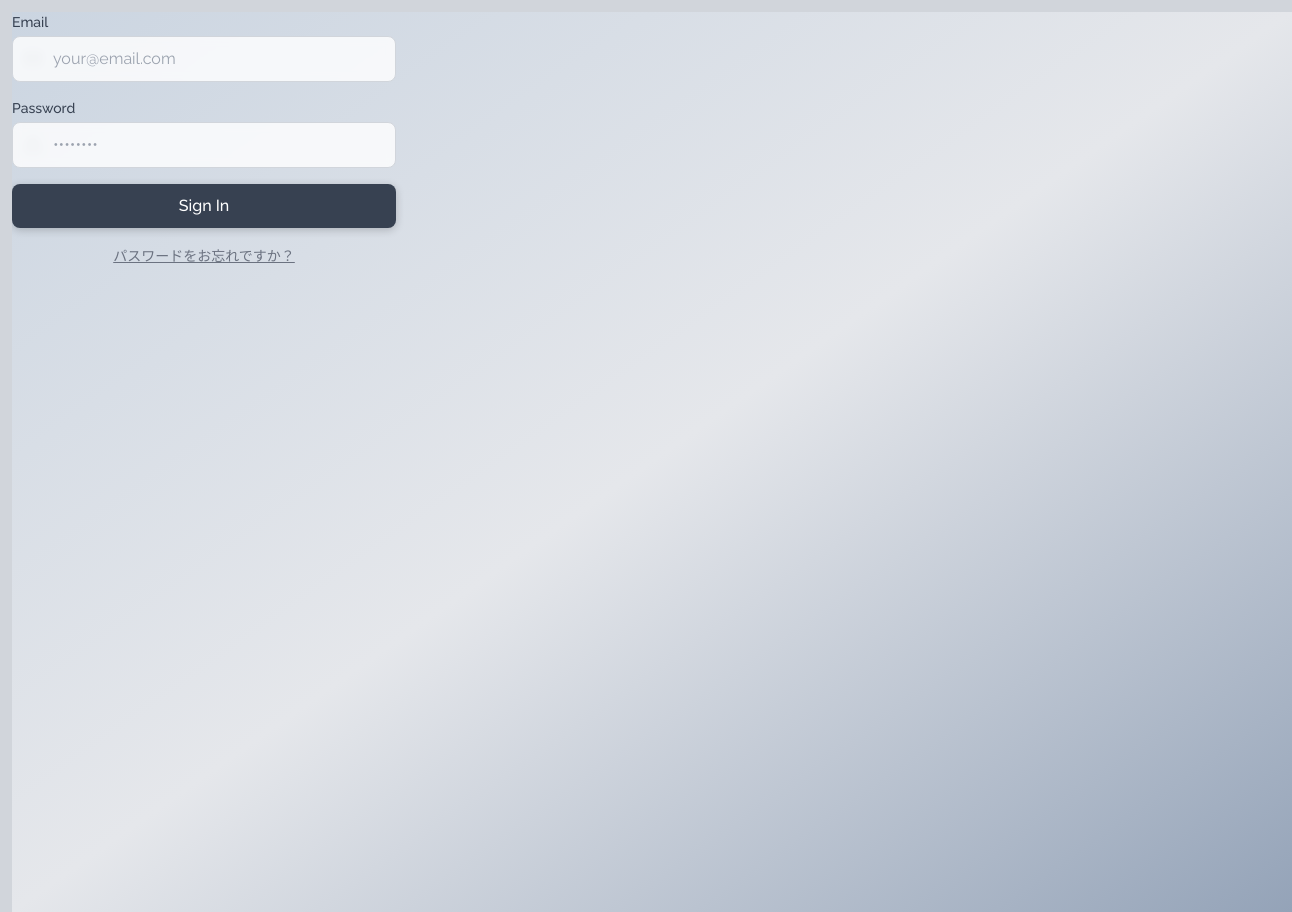
Test: AuthForm › login mode › displays error on failed login
This screenshot has width=1292, height=912.
Step 1. Type "test@example.com" into the field labelled "Email" → (204, 59), box [12,36,396,82]
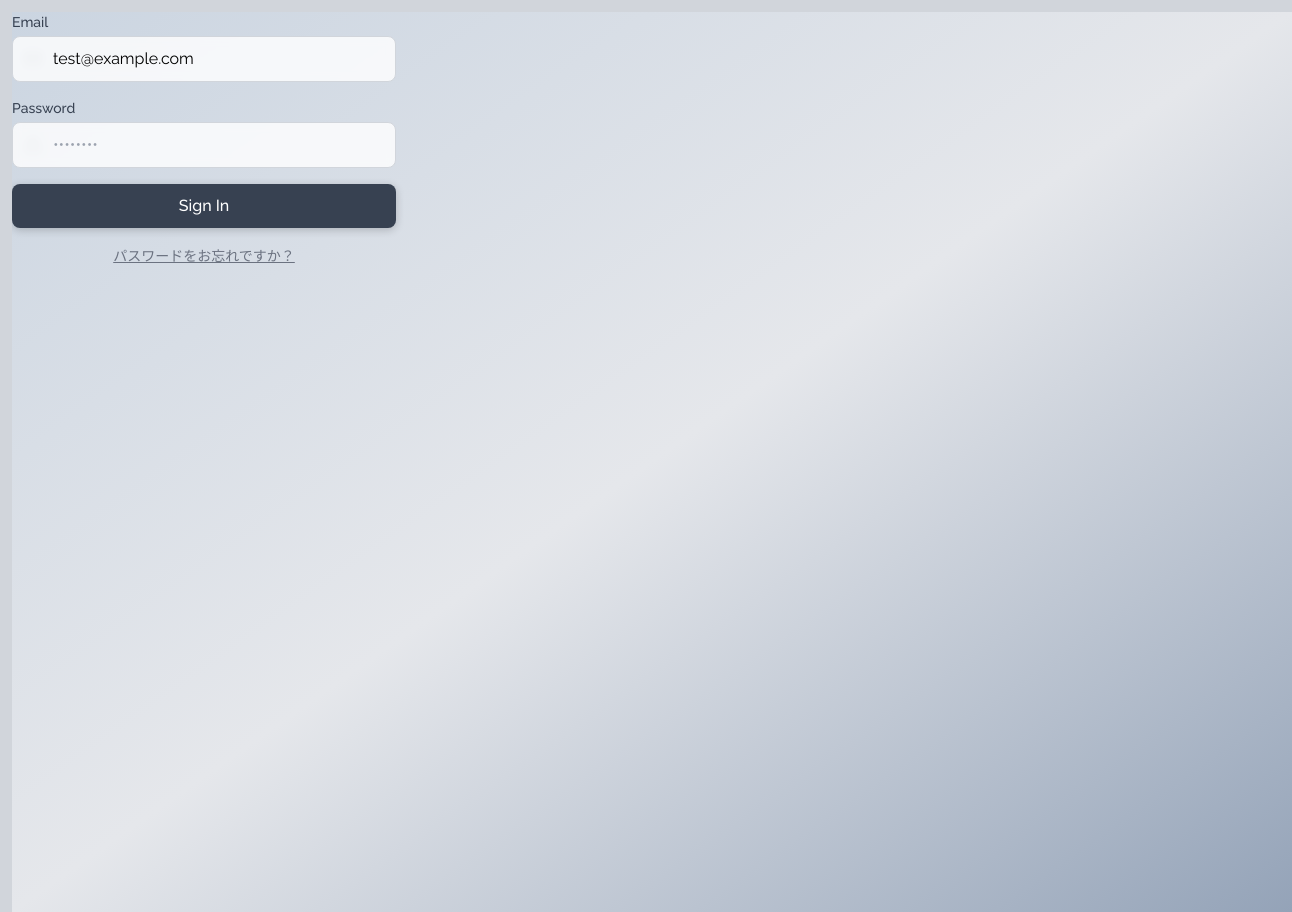
Step 2. Type "wrongpass" into the password field labelled "Password" → (204, 145), box [12,122,396,168]
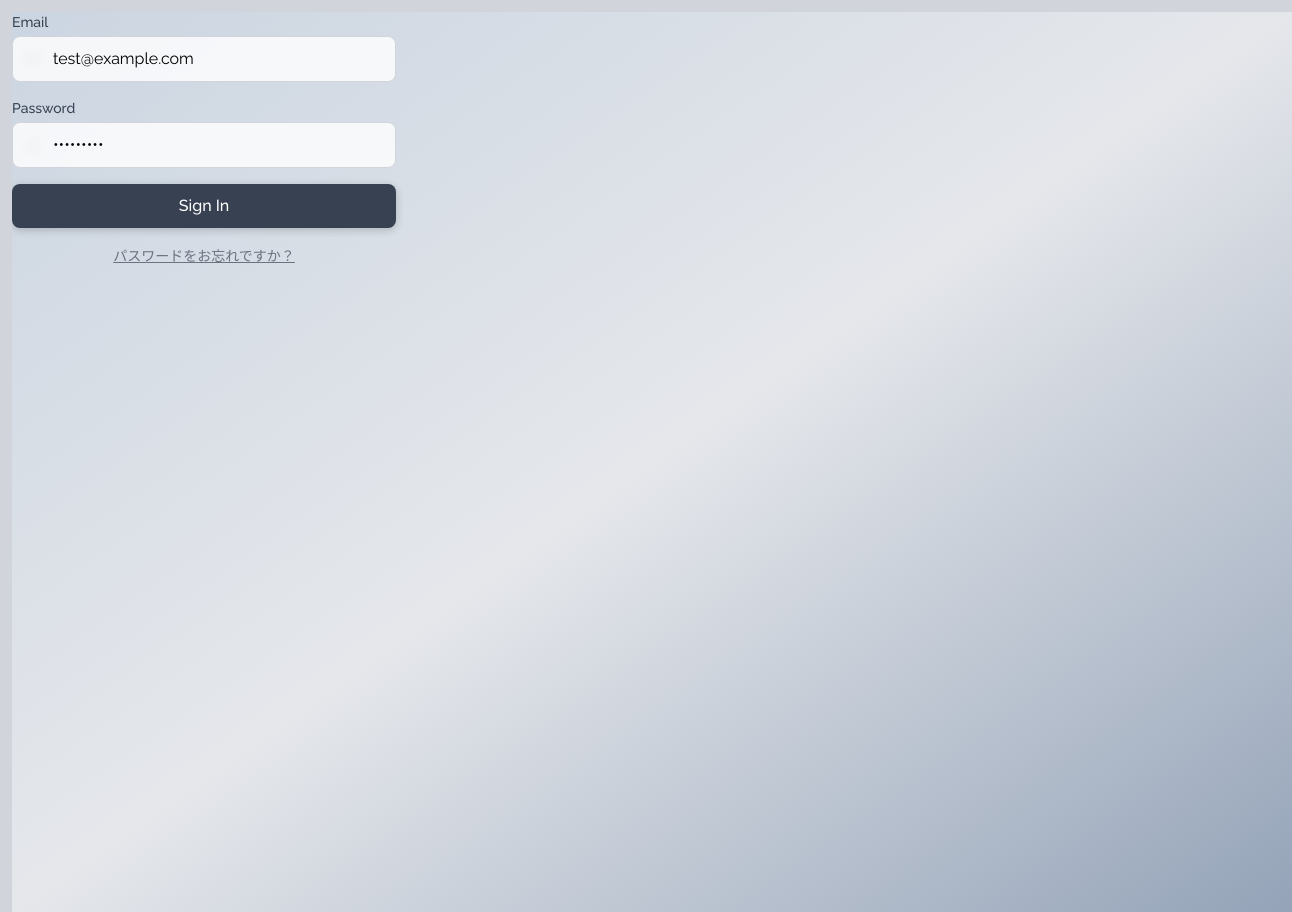
Step 3. Click the button "Sign In" → (204, 206), box [12,184,396,228]
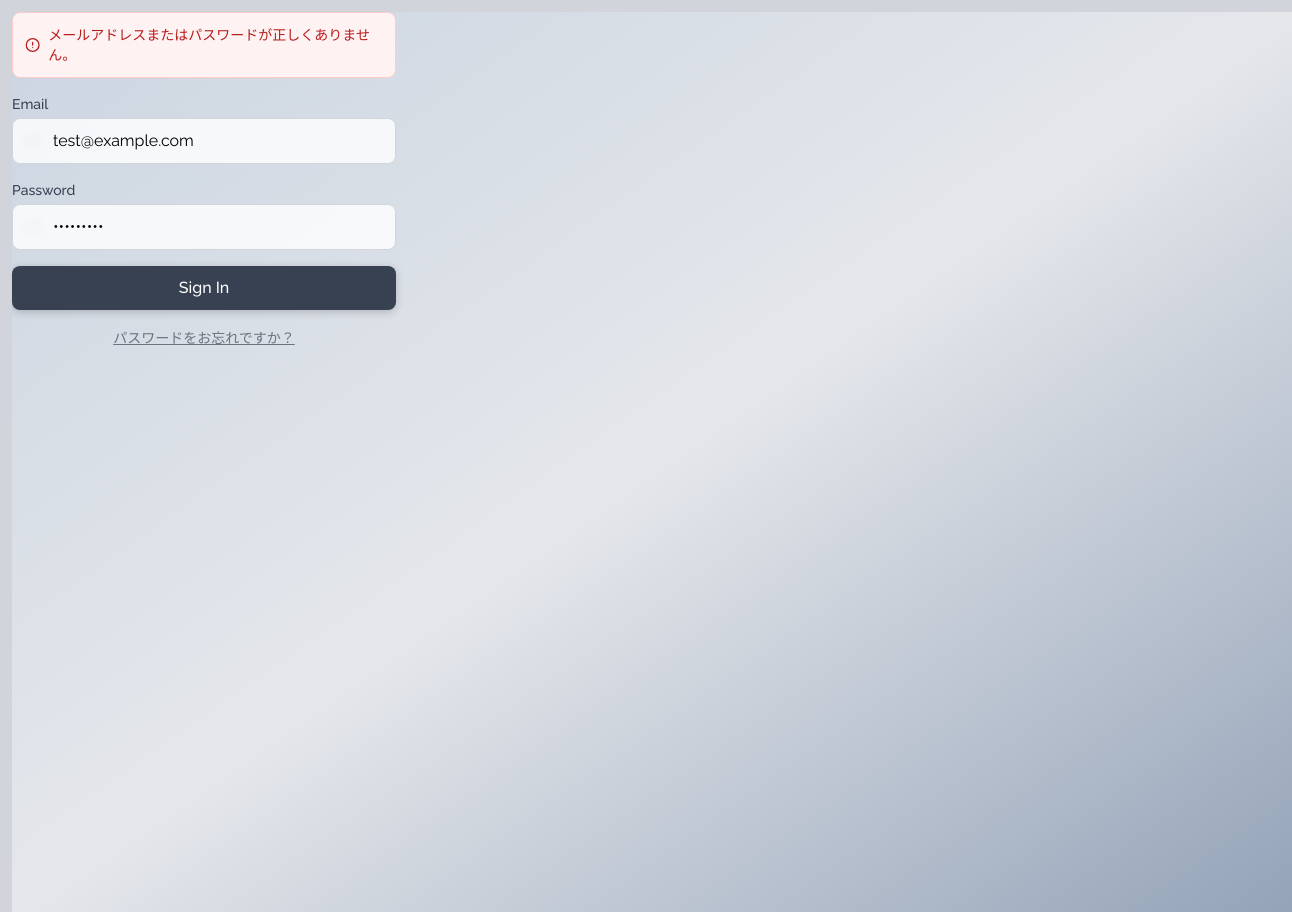
Now the message "メールアドレスまたはパスワードが正しくありません。" is shown, box [12,12,396,78]
